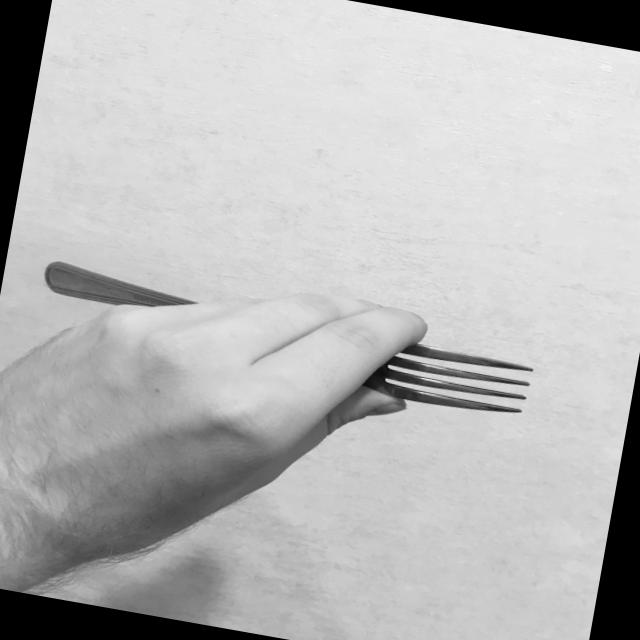fork: (31, 258, 540, 420)
